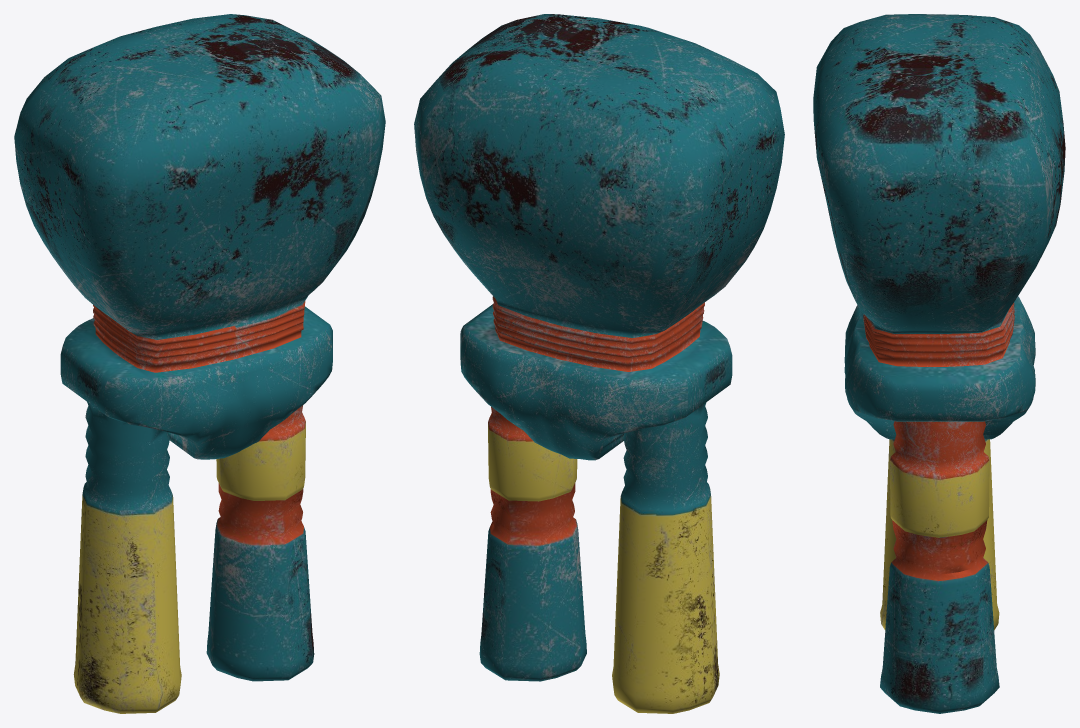
File: Body_.fbx
3 views of the same model, side by side, from view 1: azimuth 30°, elevation 25°; view 2: azimuth 150°, elevation 25°; view 3: azimuth 270°, elevation 25° (orthographic). The views are drawn at different scales.
Visible parts, largest first — view 1: Body; view 2: Body; view 3: Body.
Boxes of the visible parts, x1,y1,x2,y2 form: Body: (14, 14, 385, 713); Body: (414, 14, 784, 713); Body: (813, 14, 1065, 713).
Size of the model in its own units: 61.65 by 124 by 46.22.
Materials: 1 (1 with a texture image).
